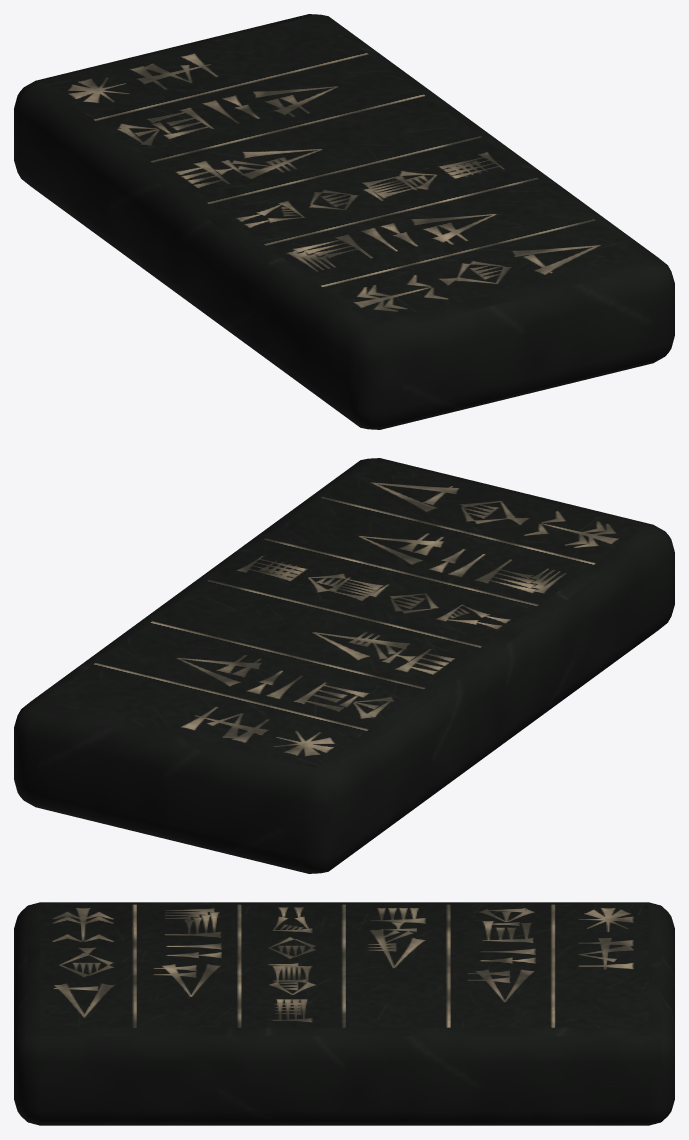
The model's file is foundation_tablet.glb.
3 renders of one model, top to bottom at view 1: azimuth 30°, elevation 25°; view 2: azimuth 150°, elevation 25°; view 3: azimuth 270°, elevation 25°, orthographic. The views are drawn at different scales.
Visible parts, largest first — view 1: foundation_tablet; view 2: foundation_tablet; view 3: foundation_tablet.
Boxes of the visible parts, x1,y1,x2,y2 form: foundation_tablet: (14,14,674,429); foundation_tablet: (14,458,674,873); foundation_tablet: (14,902,674,1125).
Size of the model in its own units: 0.052 by 0.016 by 0.1.
Materials: 2 (2 with a texture image).
